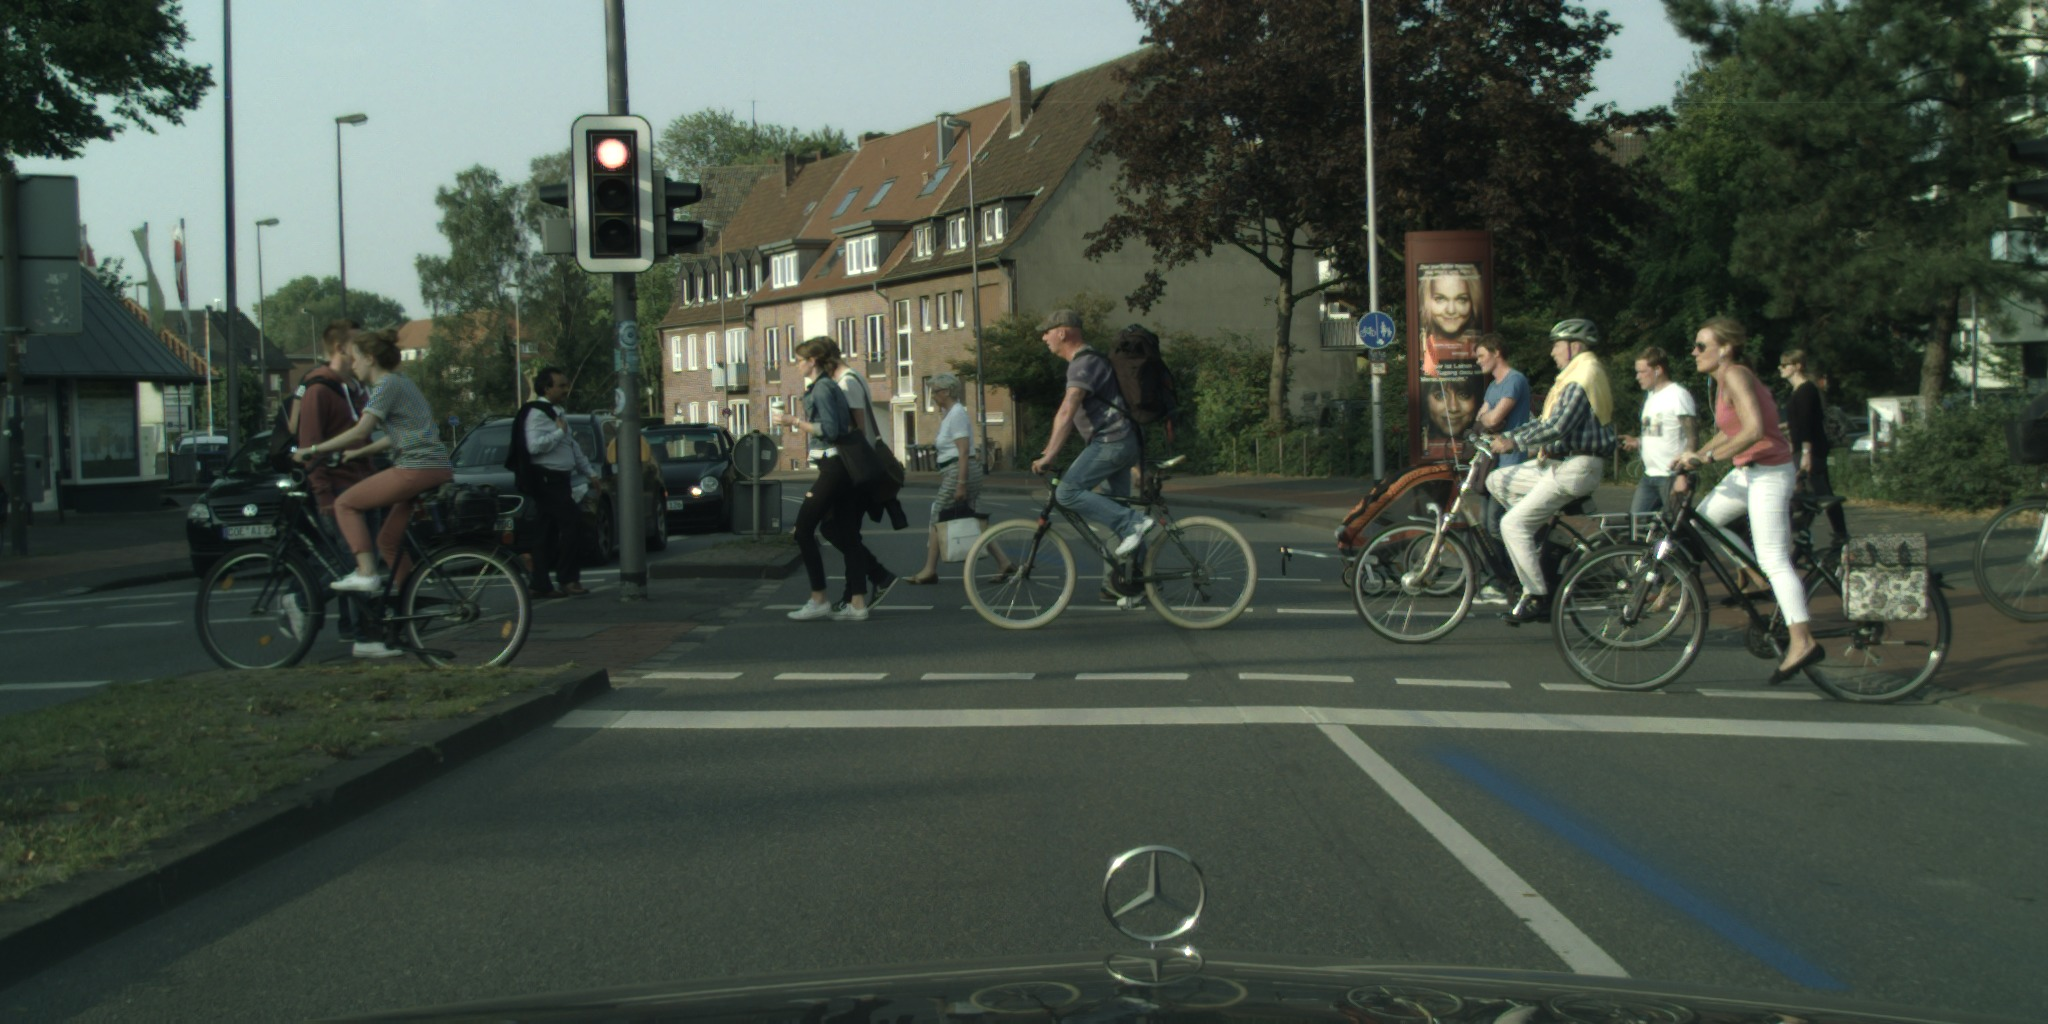bicycle: (1549, 460, 1958, 704), (194, 444, 533, 672), (1352, 428, 1694, 650), (962, 451, 1259, 630), (1974, 386, 2048, 622)
car: (394, 408, 671, 576), (186, 423, 339, 581), (607, 422, 746, 532), (159, 426, 244, 482), (173, 435, 241, 482), (1814, 412, 1873, 464), (1319, 398, 1377, 439), (1851, 429, 1909, 459)
person: (294, 315, 403, 662), (770, 340, 883, 622), (267, 335, 361, 643), (816, 336, 907, 614), (505, 365, 602, 600), (898, 369, 999, 587), (1615, 345, 1704, 575), (1765, 349, 1852, 563), (1463, 333, 1530, 605), (1088, 353, 1147, 603)
rider: (1670, 314, 1825, 687), (290, 325, 456, 591), (1490, 318, 1616, 627), (1031, 308, 1178, 559)
